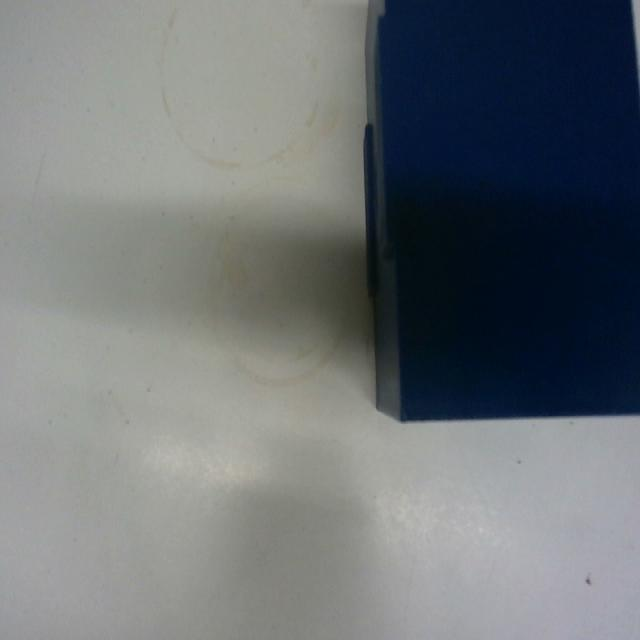Blue Cuboid: (360, 0, 639, 424)
